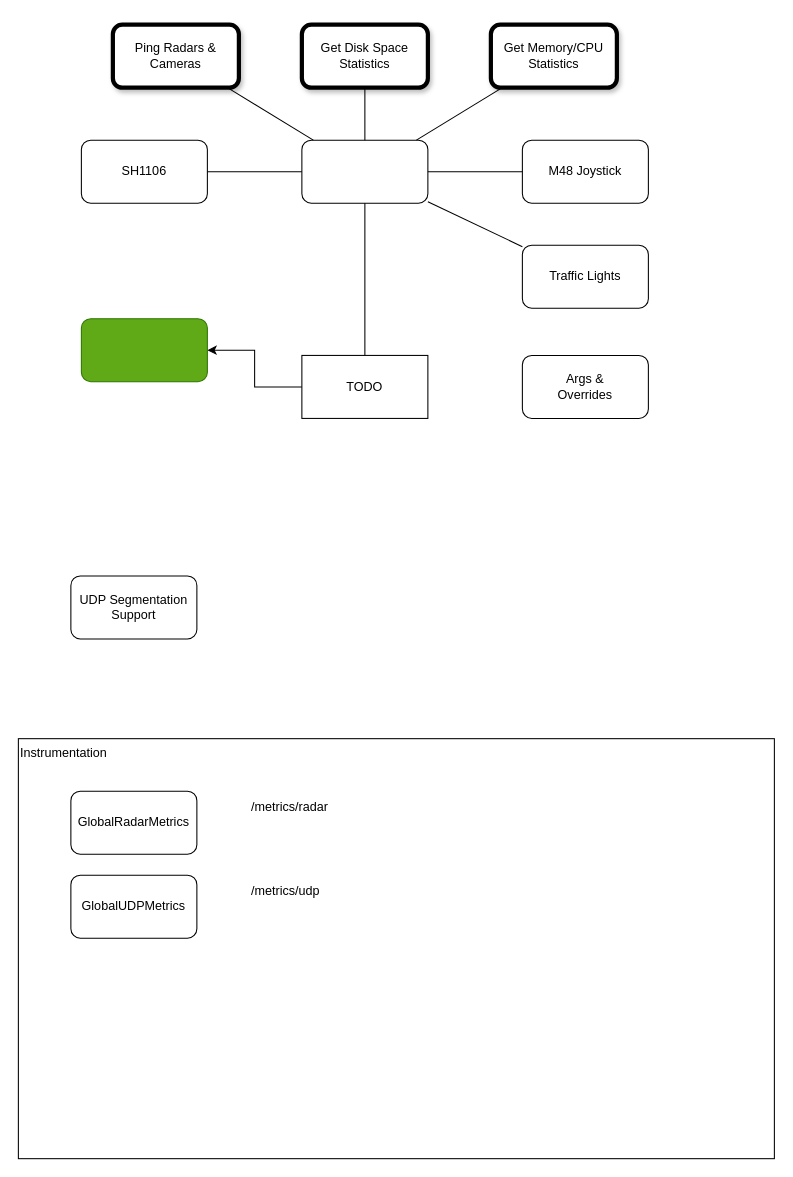
This 793x1177 diagram has some shape labels left out. Each missing label, with the centre of its shape:
Logging Infrastructure: point 143,350
Services: point 364,171
